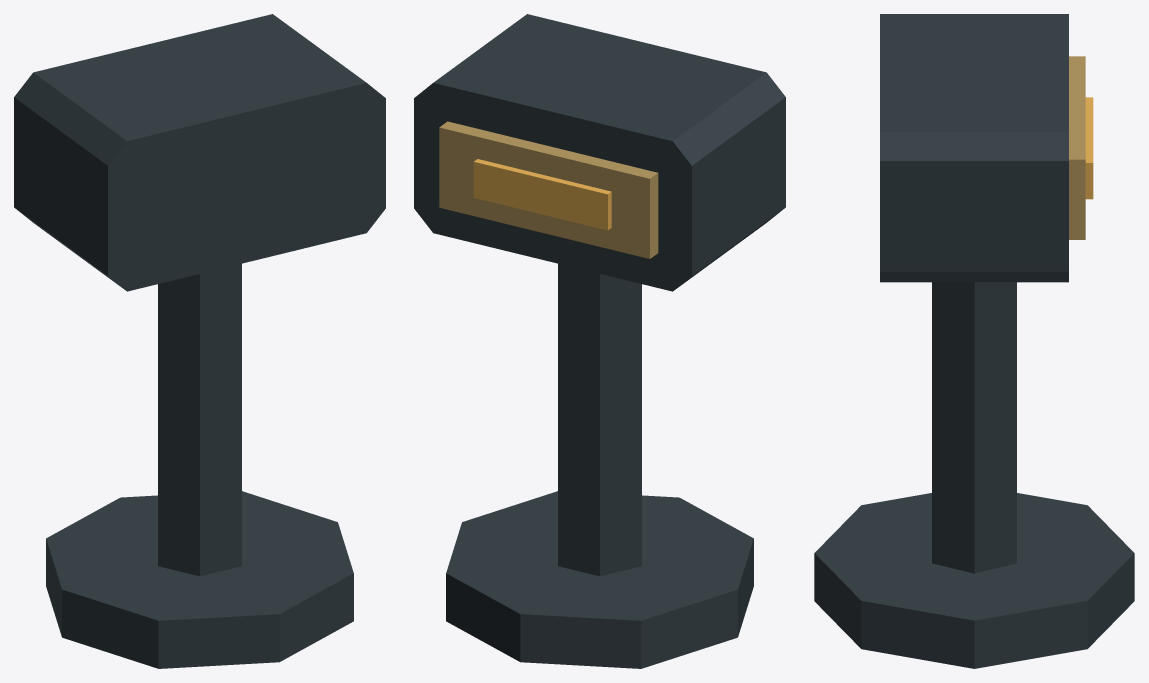
File: VIC_S02_MOVING_HOUSING_Roblox.fbx
The picture shows the model from 3 angles, left to right: view 1: azimuth 30°, elevation 25°; view 2: azimuth 150°, elevation 25°; view 3: azimuth 270°, elevation 25°; orthographic projection.
Visible parts, largest first — view 1: VIC_S02_MOVING_HOUSING__Head__Charcoal, VIC_S02_MOVING_HOUSING__Base__Charcoal; view 2: VIC_S02_MOVING_HOUSING__Base__Charcoal, VIC_S02_MOVING_HOUSING__Head__Charcoal, VIC_S02_MOVING_HOUSING__Head__Brass, VIC_S02_MOVING_HOUSING__Head__Amber; view 3: VIC_S02_MOVING_HOUSING__Base__Charcoal, VIC_S02_MOVING_HOUSING__Head__Charcoal, VIC_S02_MOVING_HOUSING__Head__Brass, VIC_S02_MOVING_HOUSING__Head__Amber.
Boxes of the visible parts, x1,y1,x2,y2 form: VIC_S02_MOVING_HOUSING__Head__Charcoal: (14, 14, 385, 291); VIC_S02_MOVING_HOUSING__Base__Charcoal: (46, 263, 353, 668); VIC_S02_MOVING_HOUSING__Base__Charcoal: (446, 263, 753, 668); VIC_S02_MOVING_HOUSING__Head__Charcoal: (414, 14, 785, 291); VIC_S02_MOVING_HOUSING__Head__Brass: (439, 121, 658, 258); VIC_S02_MOVING_HOUSING__Head__Amber: (473, 159, 611, 230); VIC_S02_MOVING_HOUSING__Base__Charcoal: (814, 282, 1134, 668); VIC_S02_MOVING_HOUSING__Head__Charcoal: (880, 14, 1068, 282); VIC_S02_MOVING_HOUSING__Head__Brass: (1069, 56, 1085, 239); VIC_S02_MOVING_HOUSING__Head__Amber: (1085, 97, 1093, 199).
Bounding box in the file's own units: 1.45 × 2.63 × 1.44.
